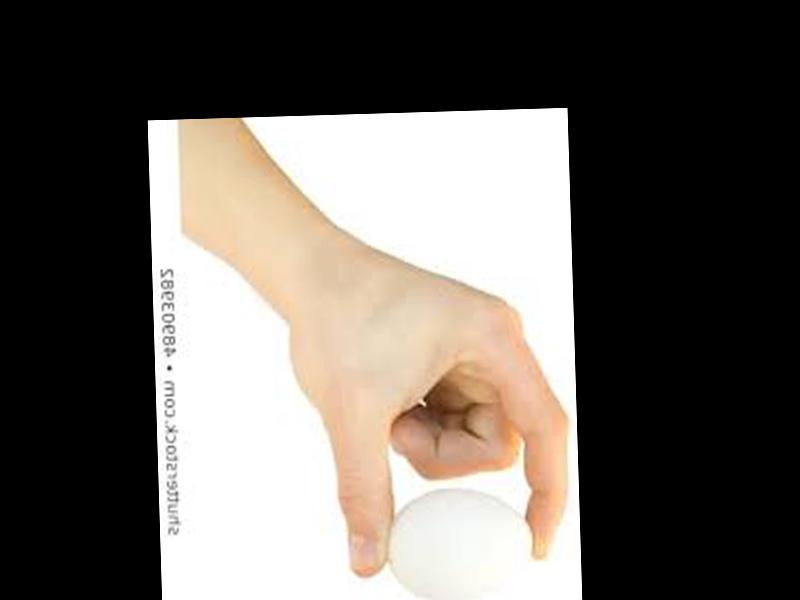Eggs: (384, 485, 533, 600)
